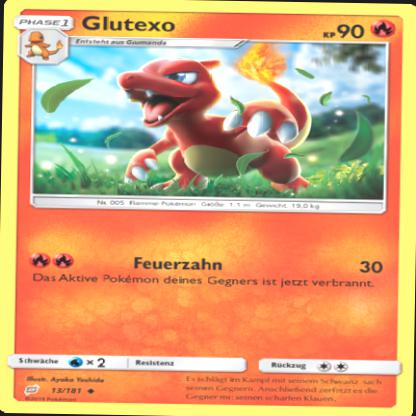Charmeleon: (112, 48, 328, 195)
